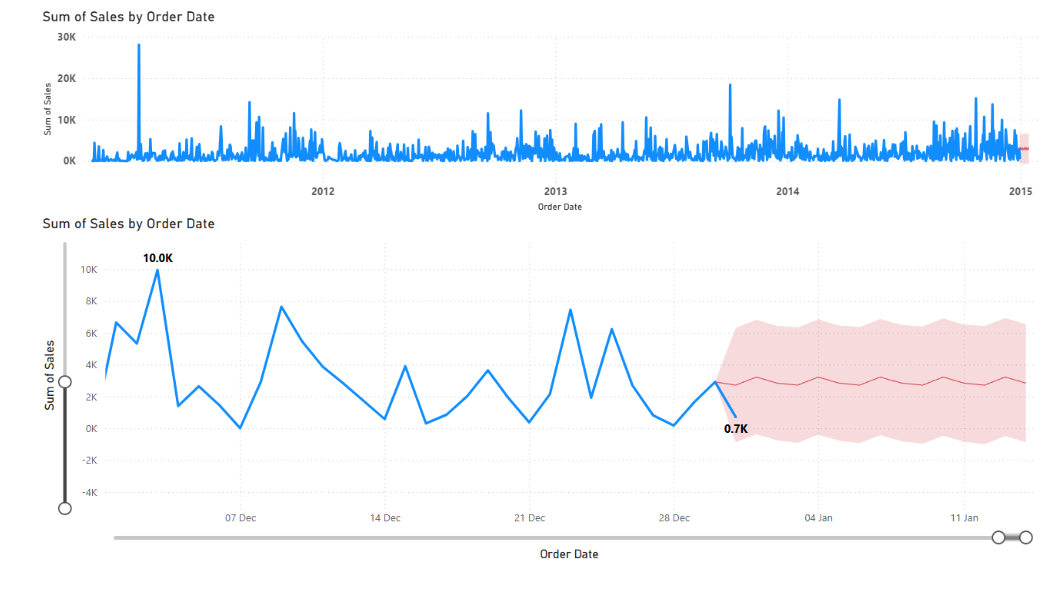

The dashboard page shown, as its layout file describes it:
{"tool":"powerbi","page":{"name":"Page 2","canvas":[1280,720],"ordinal":1},"visuals":[{"type":"lineChart","fields":{"Y":["Sum(Superstore.Sales)"],"Category":["Superstore.Order Date"]},"box":[58.7,20.8,1193.5,245.8],"z":0},{"type":"lineChart","fields":{"Y":["Sum(Superstore.Sales)"],"Category":["Superstore.Order Date"]},"box":[58.7,266.6,1193.5,414.5],"z":1000}]}

Visuals, with their boxes in screenshot pixels (x1, y1, x2, y2), scaled from the page's 1280x720 canvas onto the 1058x592 screenshot:
lineChart - Sum(Superstore.Sales) x Superstore.Order Date: rect(49, 17, 1035, 219)
lineChart - Sum(Superstore.Sales) x Superstore.Order Date: rect(49, 219, 1035, 560)
